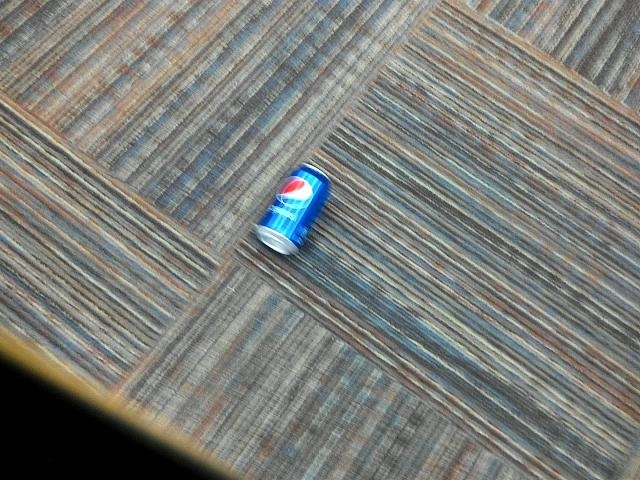can: (246, 152, 337, 264)
